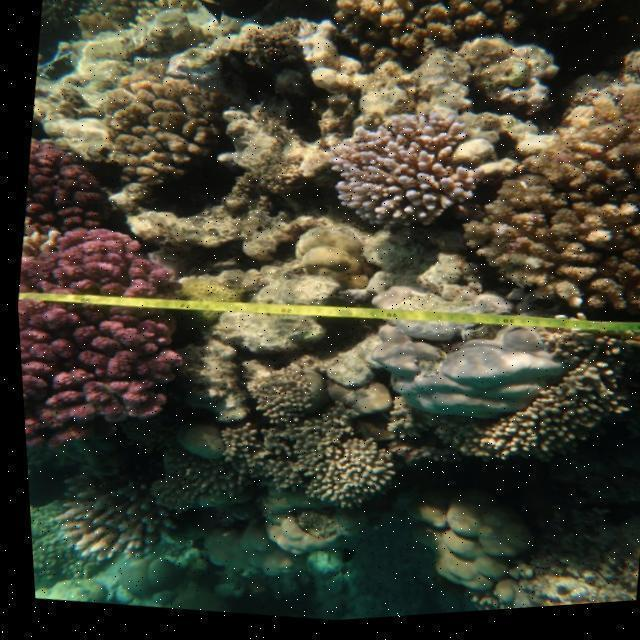Healthy Coral: (10, 210, 202, 470), (472, 142, 640, 309), (327, 117, 473, 228), (110, 63, 221, 206), (17, 128, 132, 243)
